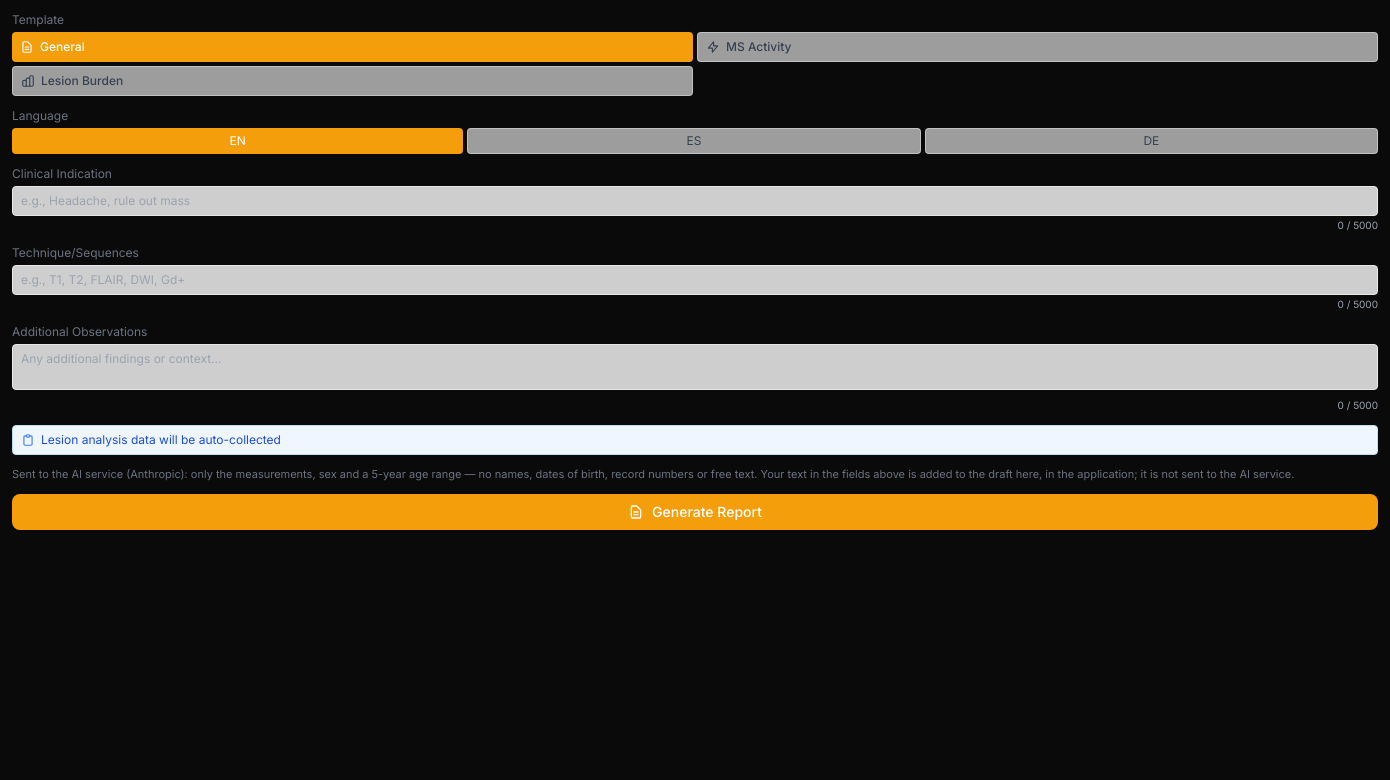
it: Release 2026-10-25: the report panel names an unreadable image geometry › rc070 release r6 a geometry 422 shows its own message, not "no measurements" (en)
The width and height of the screenshot is (1390, 780).
Click the button with test id "report-generate-button" at (695, 512), box 12,494 -> 1378,530
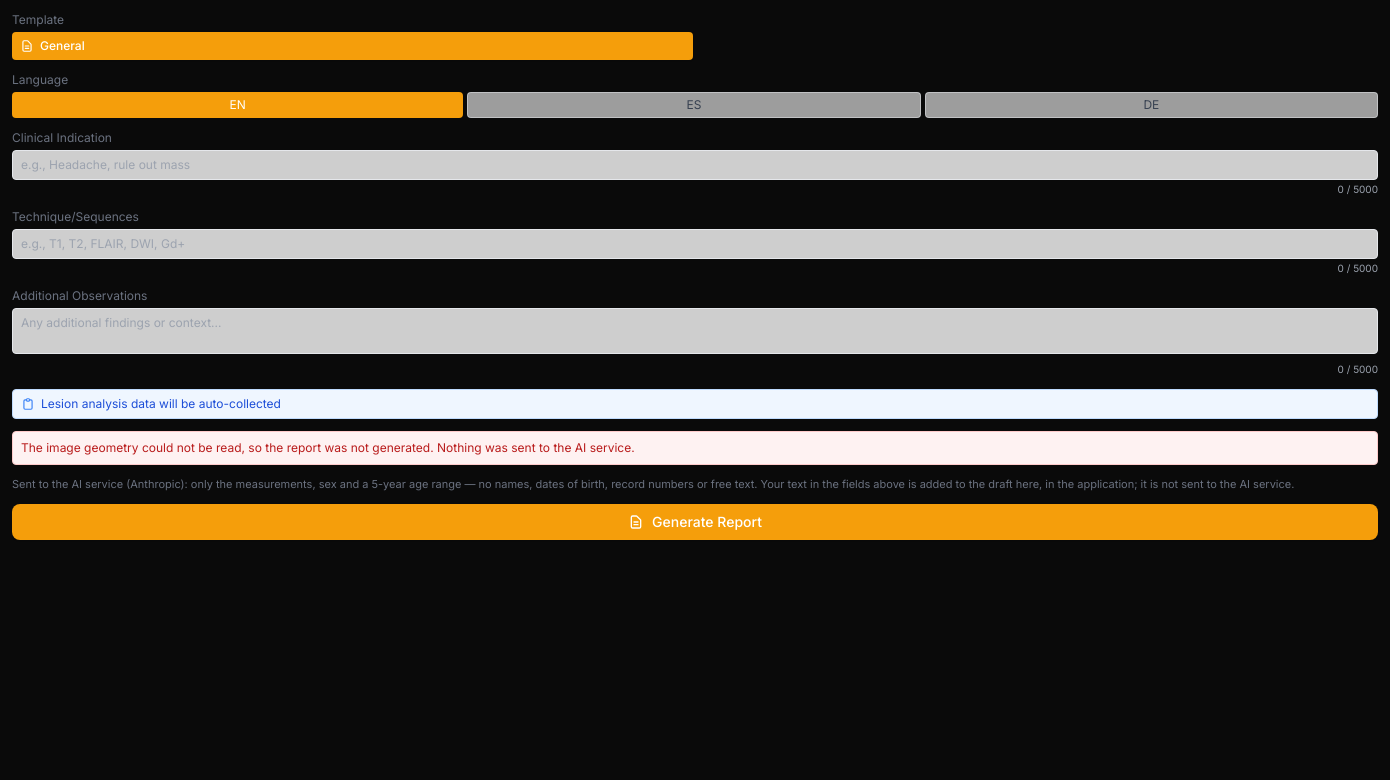
Now the text "The image geometry could not be read, so the report was not generated. Nothing was sent to the AI service." is shown, box 21,440 -> 635,455
